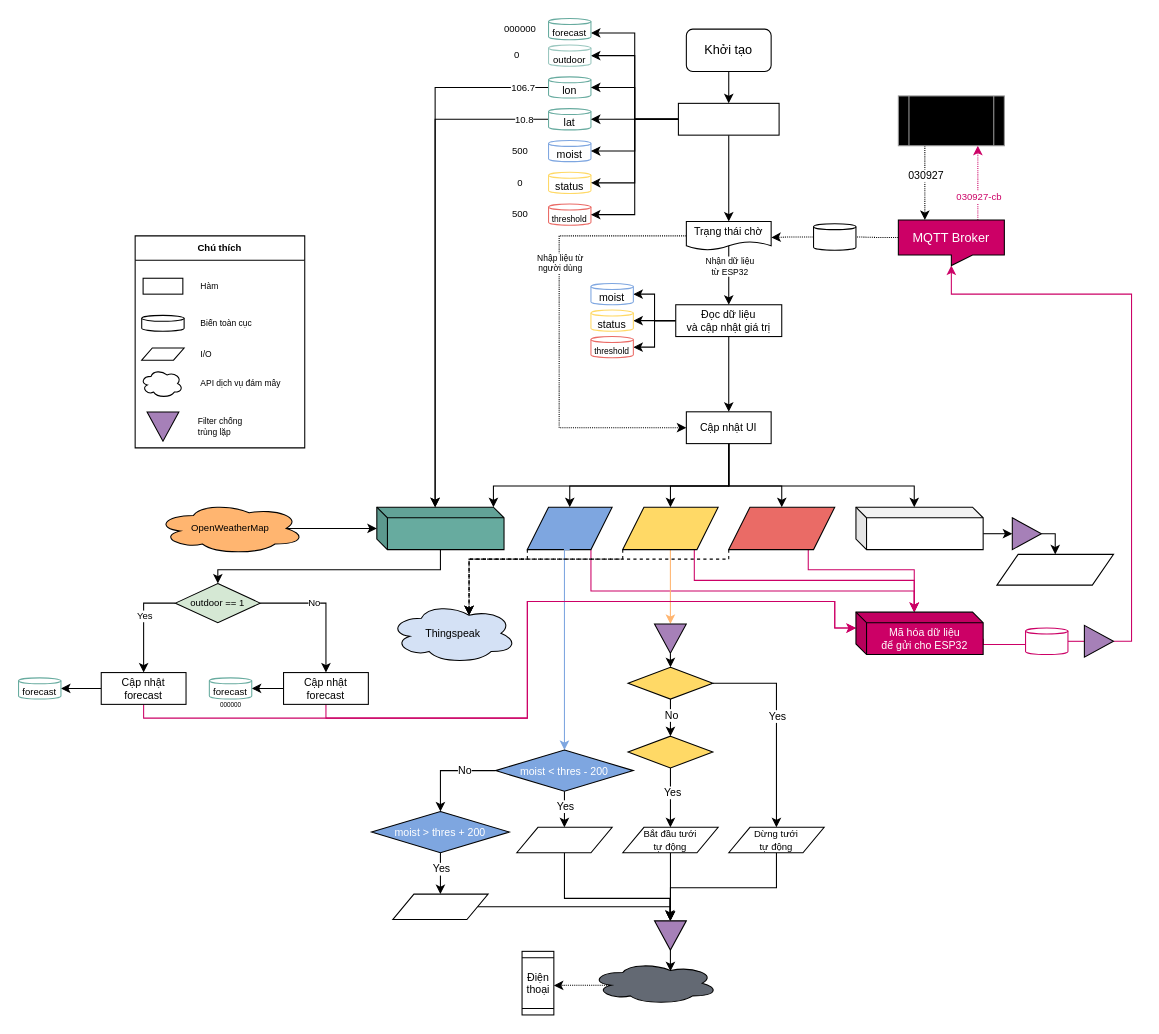
This 1159x1034 diagram has some shape labels left out. Each missing label, with the centre of its shape:
"Bộ soạn thảo thông báo trạng thái tưới" goes at point 919,528.
"Cập nhật dữ liệu dự báo thời tiết" goes at point 440,528.
"ESP32" goes at point 950,120.
"Hiện thông báo ra màn hình" goes at point 1055,569.
"IFTTT" goes at point 654,982.
"Khởi tạo giá trị mặc định cho các biến toàn cục" goes at point 728,118.
"Ngưỡng độ ẩm thiết lập" goes at point 781,528.
"receive" goes at point 834,236.
"send" goes at point 1046,641.
"status == 0" goes at point 670,682.
"status == 1" goes at point 670,751.
"Trạng thái hệ thống tưới" goes at point 670,528.
"Đất quá khô" goes at point 564,839.
"Đất quá ẩm" goes at point 440,906.
"Độ ẩm" goes at point 569,528.
